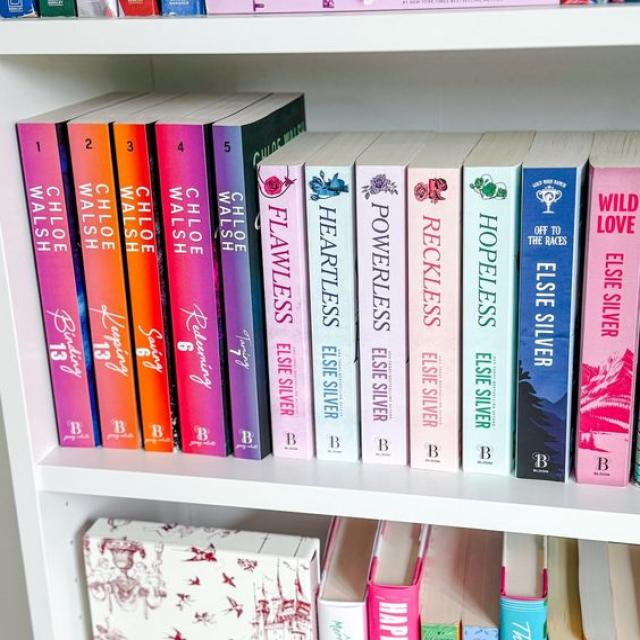book: (213, 97, 303, 459), (17, 121, 98, 447), (155, 123, 228, 456), (67, 123, 138, 448), (515, 164, 583, 480), (574, 164, 639, 485), (115, 123, 172, 451), (462, 166, 519, 475), (305, 164, 359, 460), (407, 169, 460, 470), (259, 165, 313, 458), (356, 165, 406, 465)
